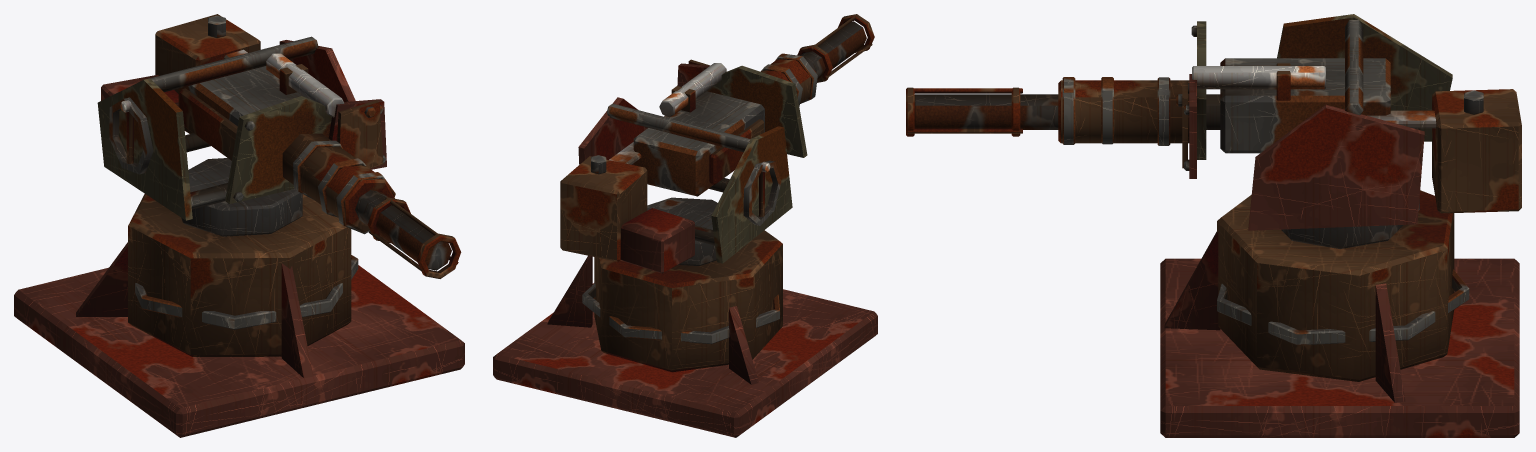
File: R4W_Basic_LOD1.glb
3 views of the same model, side by side, from view 1: azimuth 30°, elevation 25°; view 2: azimuth 150°, elevation 25°; view 3: azimuth 270°, elevation 25° (orthographic). The views are drawn at different scales.
Parts seen in each view (by area): view 1: R4W_Basic_LOD1; view 2: R4W_Basic_LOD1; view 3: R4W_Basic_LOD1.
Part boxes in pixels (<box>): R4W_Basic_LOD1: <box>14,14,464,437</box>; R4W_Basic_LOD1: <box>493,14,877,437</box>; R4W_Basic_LOD1: <box>906,14,1521,437</box>.
Size of the model in its own units: 0.51 by 0.496 by 0.8741.
5 materials, 5 textured.
